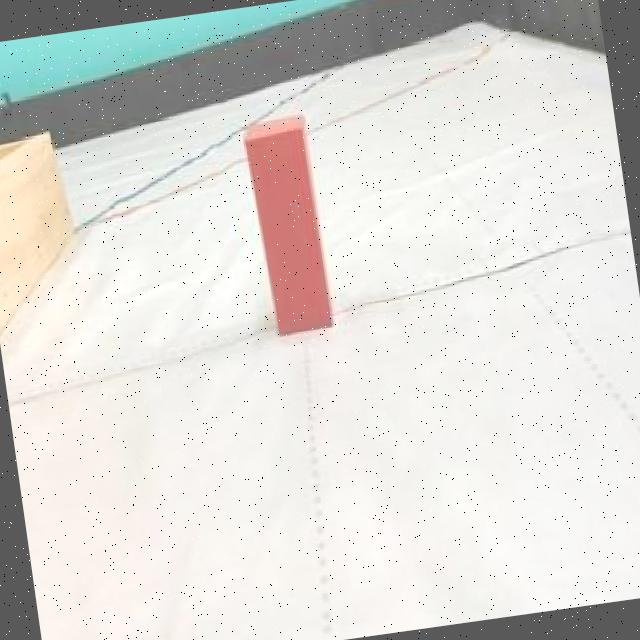redbox: (239, 110, 338, 337)
